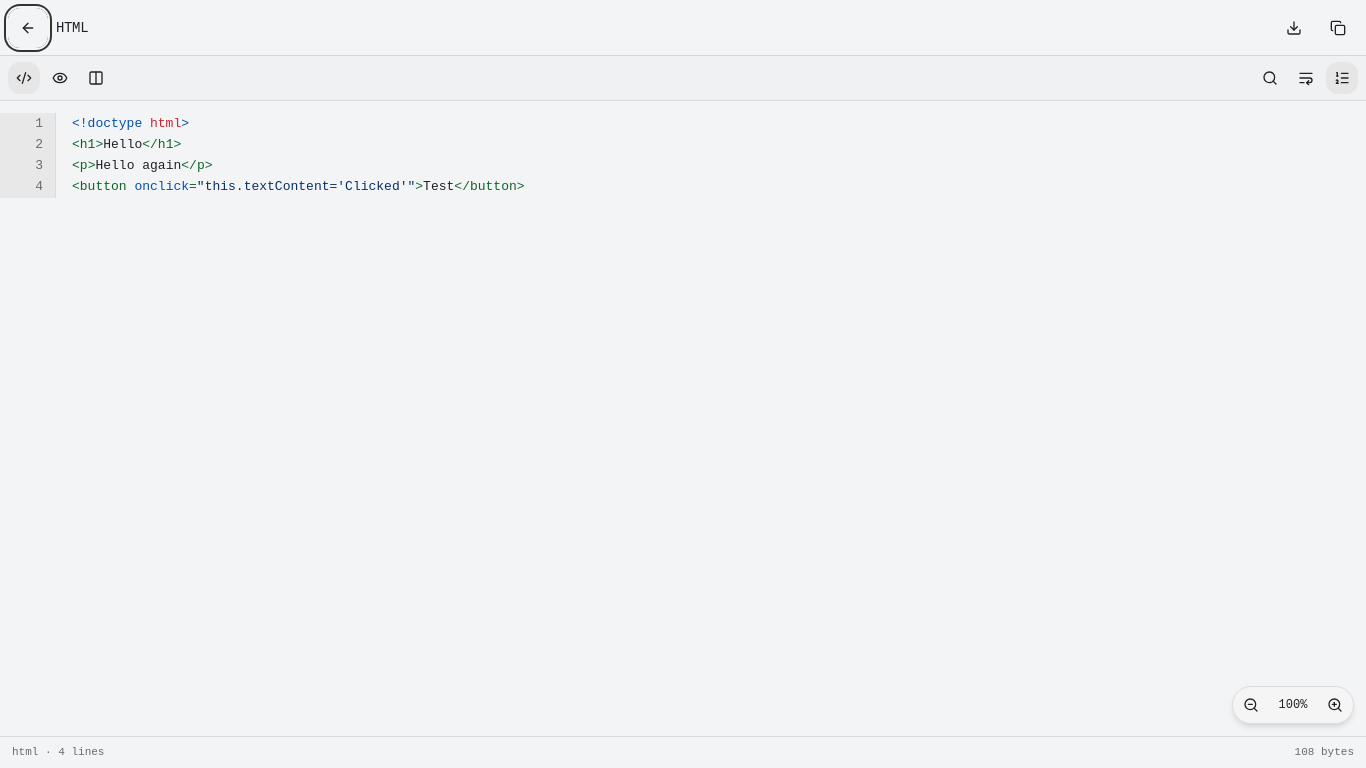
Scenario: Advanced code viewer › toggles wrapping and line numbers and zooms without changing copied content
Later steps or results of the test are not shown.
Click the button named "Wrap lines".
click(1306, 78)  # box [1290,62,1322,94]
Click the button named "Line numbers".
click(1342, 78)  # box [1326,62,1358,94]
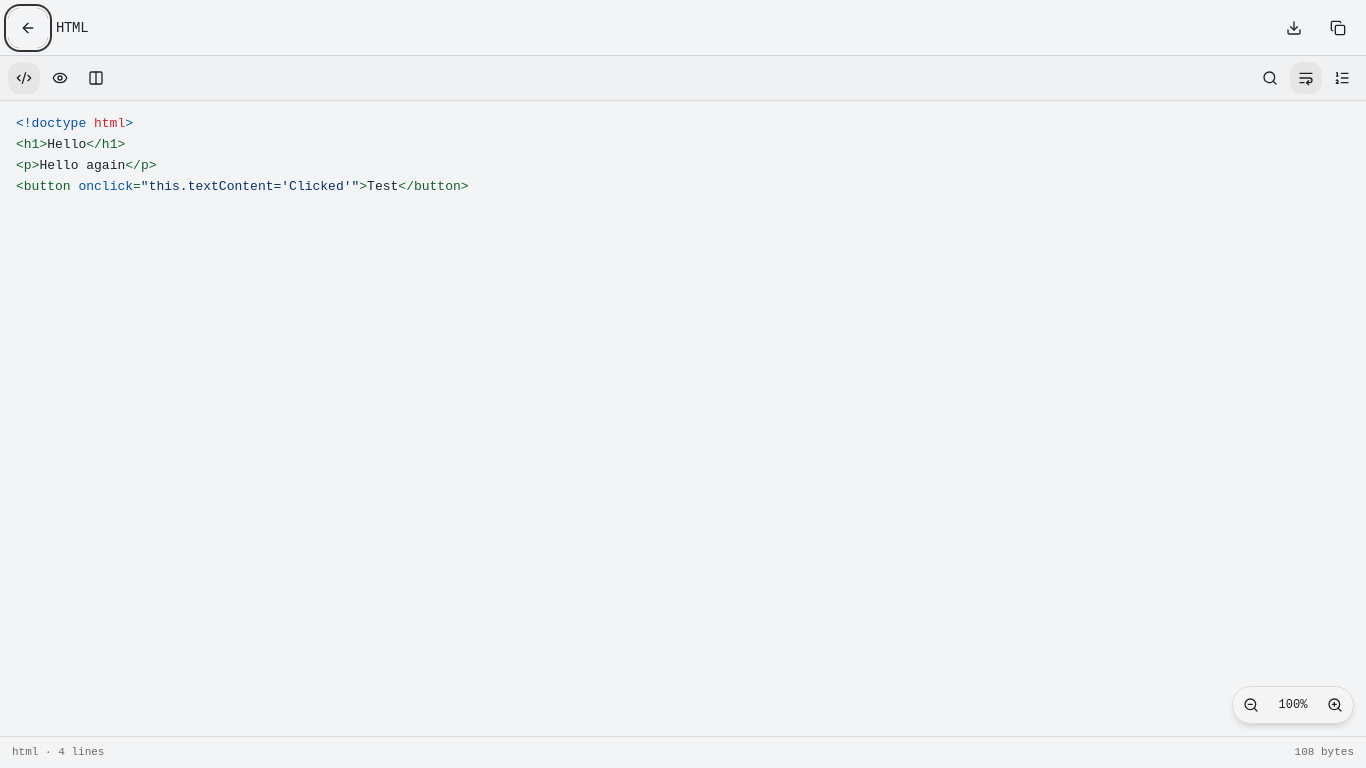
Click the button named "Zoom in".
click(1335, 705)  # box [1319,689,1351,721]
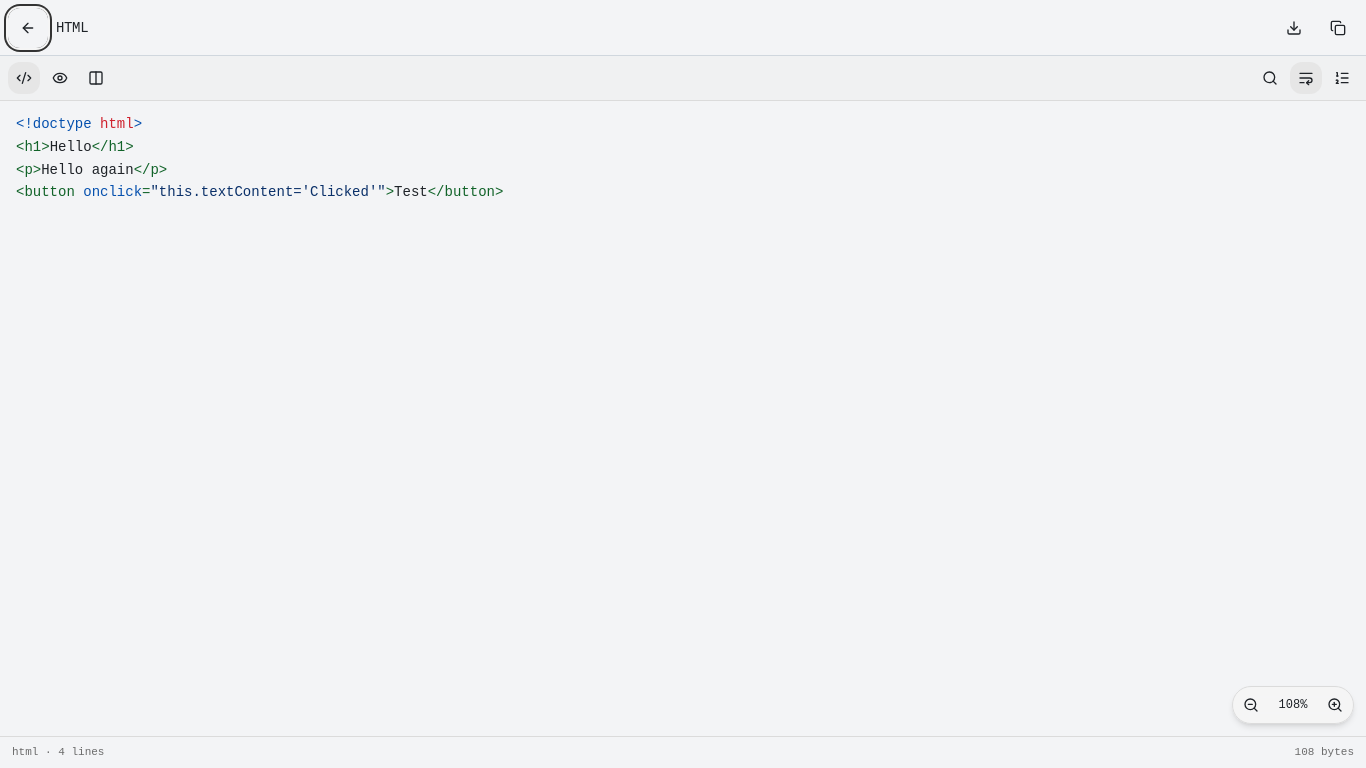
Check: the button named "Reset zoom" reads "108%"
Click the button named "Reset zoom".
click(1293, 705)  # box [1269,689,1317,721]
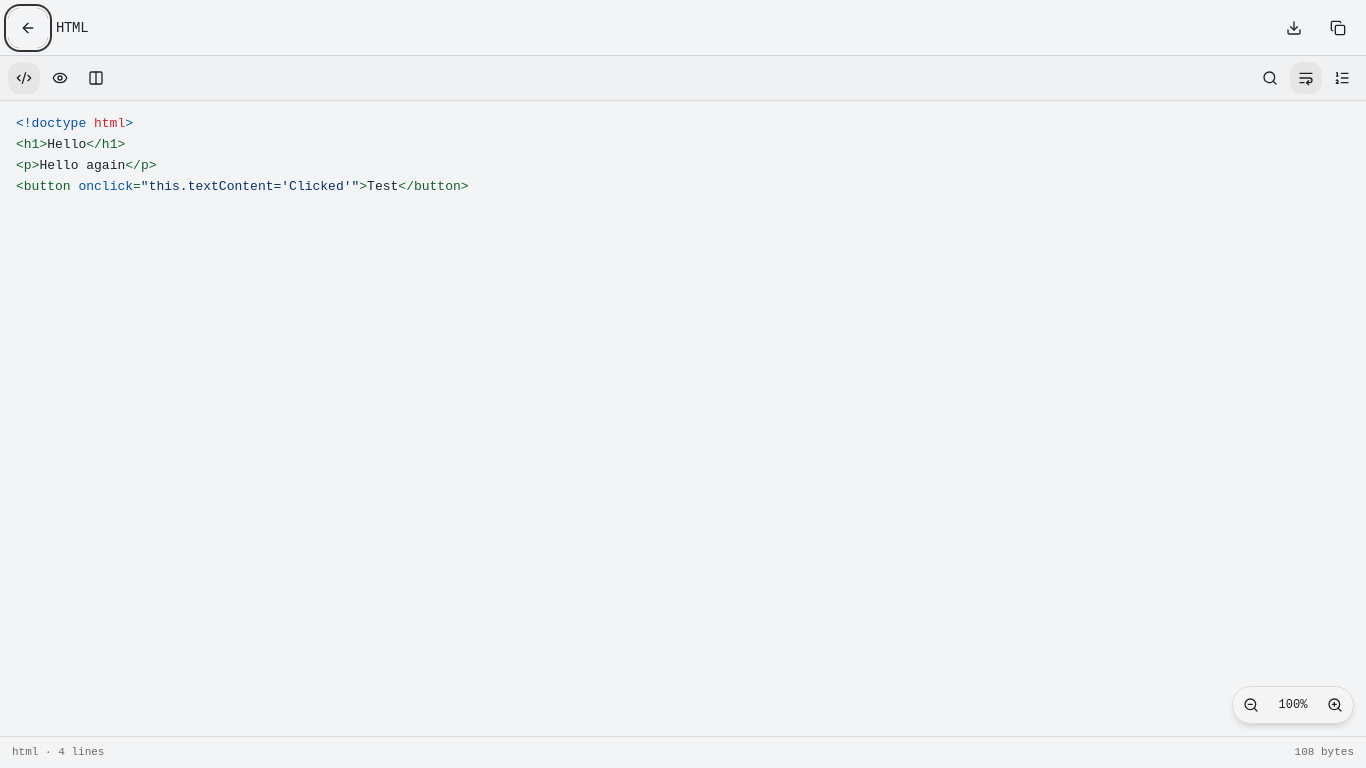
Check: the button named "Reset zoom" reads "100%", box [1269,689,1317,721]
